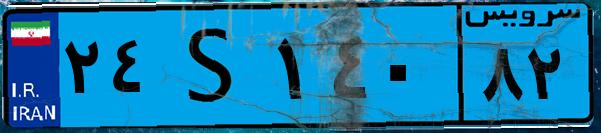0: (385, 28, 445, 110)
1: (270, 28, 330, 110)
2: (57, 26, 110, 100), (525, 38, 570, 115)
4: (330, 28, 385, 110), (110, 28, 158, 98)
8: (475, 38, 525, 113)
S: (158, 12, 270, 120)
